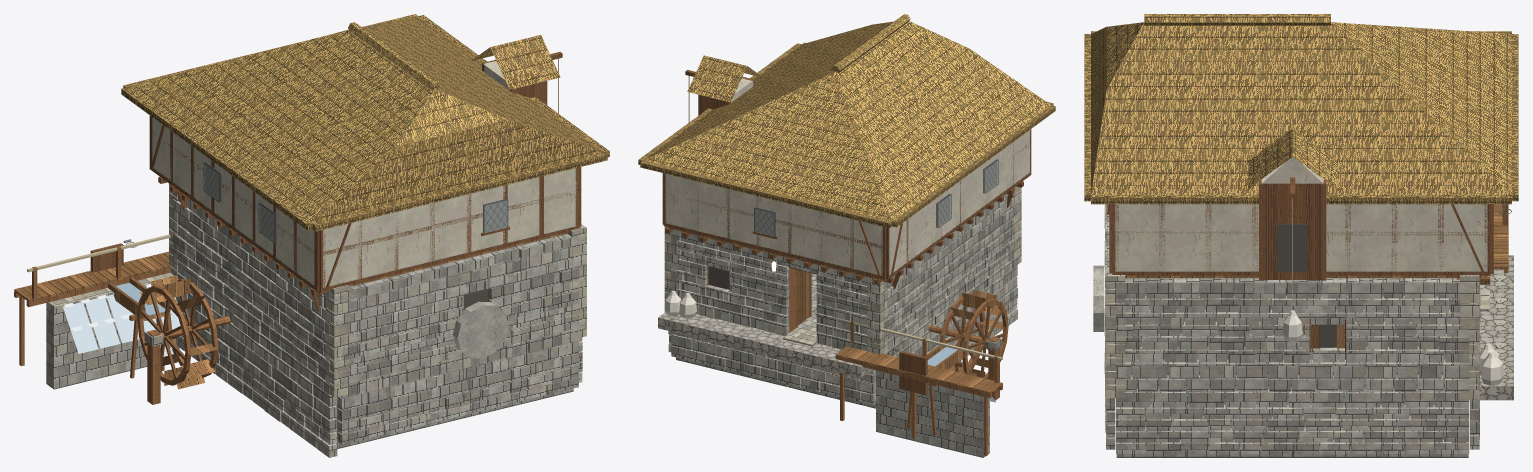
The model's file is mill.glb.
The picture shows the model from 3 angles, left to right: view 1: azimuth 30°, elevation 25°; view 2: azimuth 150°, elevation 25°; view 3: azimuth 270°, elevation 25°; orthographic projection. The views are drawn at different scales.
Visible parts, largest first — view 1: Mill_Shell, Mill_Roof, Mill_UpperShell, Mill_Weir, Mill_WheelParts, Mill_WeirWalk, Mill_RoofLucam, Mill_Dressing, Mill_Leat, Mill_GlazingRecess, Mill_WheelBearing, Mill_GlazingRecessLeads (+1 smaller); view 2: Mill_Roof, Mill_Shell, Mill_UpperShell, Mill_Weir, Mill_FloorFlags, Mill_WeirWalk, Mill_WheelParts, Mill_RoofLucam, Mill_Leat, Mill_FrameGround, Mill_UpperJoists, Mill_GlazingRecess (+4 smaller); view 3: Mill_Roof, Mill_Shell, Mill_UpperShell, Mill_RoofLucam, Mill_FloorFlags, Mill_Dressing, Mill_FrameGround, Mill_WeirWalk, Mill_UpperFloorBoards.
Part boxes in pixels (bbox=[...]): Mill_Shell: bbox=[169, 183, 586, 457]; Mill_Roof: bbox=[121, 14, 609, 231]; Mill_UpperShell: bbox=[149, 115, 581, 291]; Mill_Weir: bbox=[46, 273, 180, 389]; Mill_WheelParts: bbox=[136, 275, 230, 389]; Mill_WeirWalk: bbox=[14, 234, 170, 365]; Mill_RoofLucam: bbox=[471, 35, 562, 113]; Mill_Dressing: bbox=[453, 301, 508, 358]; Mill_Leat: bbox=[90, 239, 166, 378]; Mill_GlazingRecess: bbox=[204, 164, 507, 242]; Mill_WheelBearing: bbox=[144, 329, 163, 404]; Mill_GlazingRecessLeads: bbox=[203, 162, 508, 242]; Mill_Roof: bbox=[638, 14, 1055, 228]; Mill_Shell: bbox=[664, 186, 1021, 408]; Mill_UpperShell: bbox=[662, 129, 1031, 279]; Mill_Weir: bbox=[876, 370, 995, 457]; Mill_FloorFlags: bbox=[658, 273, 871, 377]; Mill_WeirWalk: bbox=[835, 320, 1002, 456]; Mill_WheelParts: bbox=[928, 290, 1008, 379]; Mill_RoofLucam: bbox=[685, 55, 763, 122]; Mill_Leat: bbox=[888, 342, 963, 435]; Mill_FrameGround: bbox=[707, 258, 816, 332]; Mill_UpperJoists: bbox=[665, 181, 1023, 289]; Mill_GlazingRecess: bbox=[755, 161, 997, 236]; Mill_Roof: bbox=[1084, 14, 1518, 204]; Mill_Shell: bbox=[1104, 204, 1480, 457]; Mill_UpperShell: bbox=[1106, 204, 1493, 275]; Mill_RoofLucam: bbox=[1248, 129, 1336, 342]; Mill_FloorFlags: bbox=[1469, 255, 1513, 400]; Mill_Dressing: bbox=[1093, 265, 1503, 385]; Mill_FrameGround: bbox=[1303, 317, 1346, 351]; Mill_WeirWalk: bbox=[1493, 204, 1508, 272]; Mill_UpperFloorBoards: bbox=[1125, 275, 1487, 277].
Size of the model in its own units: 13.42 by 9.89 by 9.8.
Materials: 25 (13 with a texture image).
